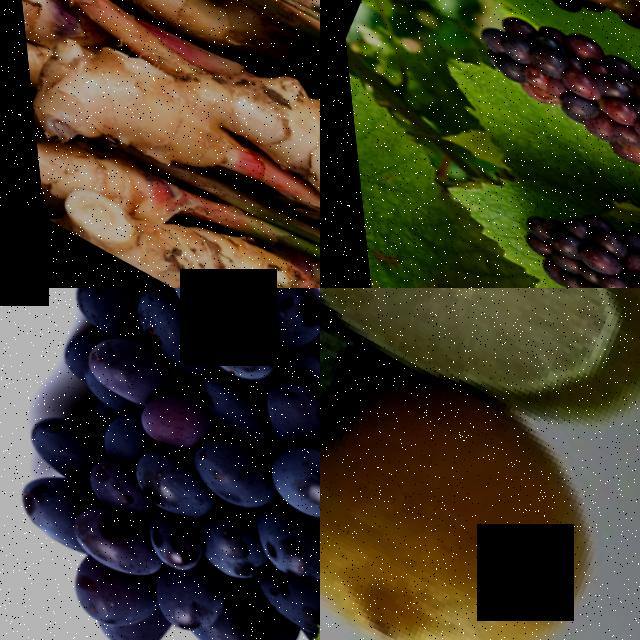ginger: (10, 0, 320, 288)
grapes: (0, 288, 320, 640), (448, 0, 640, 288)
lemon: (320, 340, 639, 640), (320, 288, 640, 450)
